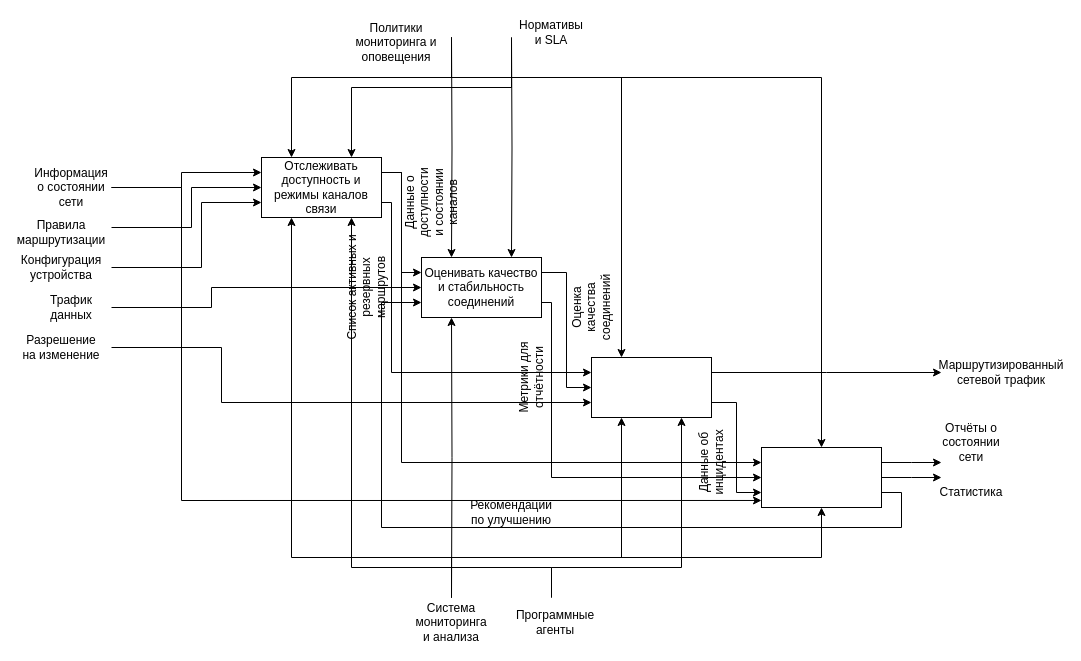
Some shapes in this 1081 by 661 pixel diagram are drawn without their labels. Here are the shapes that lost their labels. From the top down, the centre of each, then its label:
the point at 651,387: Автоматизировать реакцию на сетевые инциденты
the point at 821,477: Формировать и интерпретировать отчётность по сети
